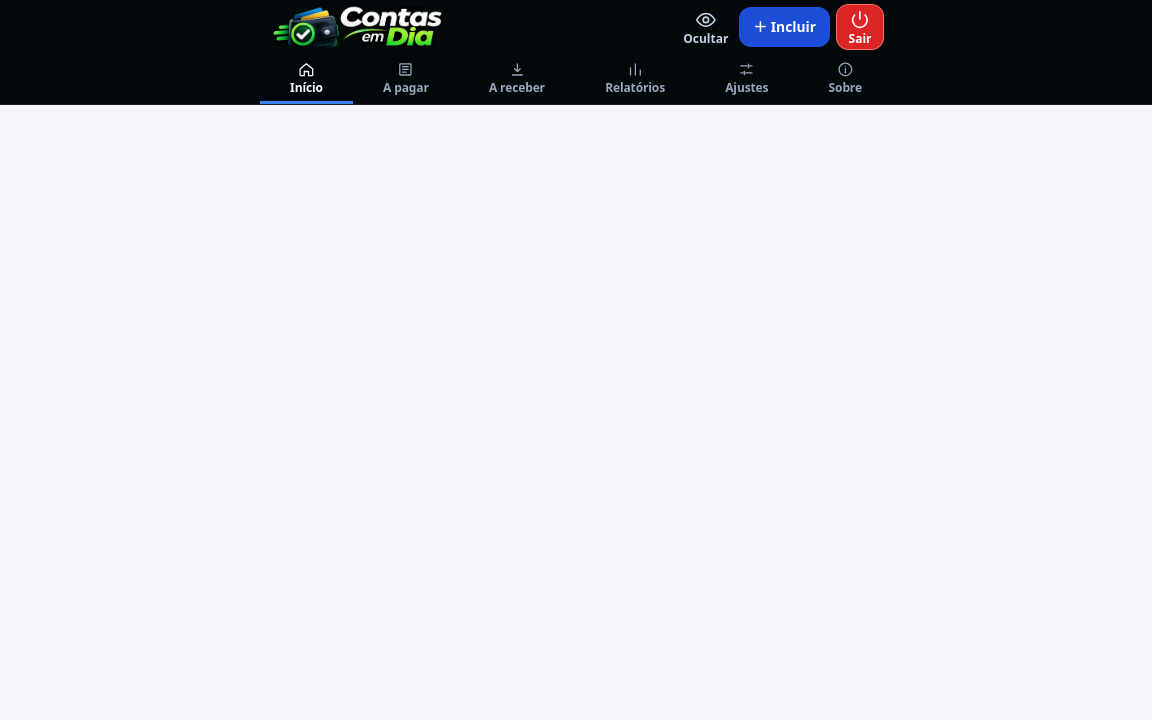
Test: Cabeçalho do app › escolher uma opção fecha a folha e a tecla Esc também
The width and height of the screenshot is (1152, 720).
Click the button "＋ Incluir" at (785, 27), box [739, 7, 830, 47]
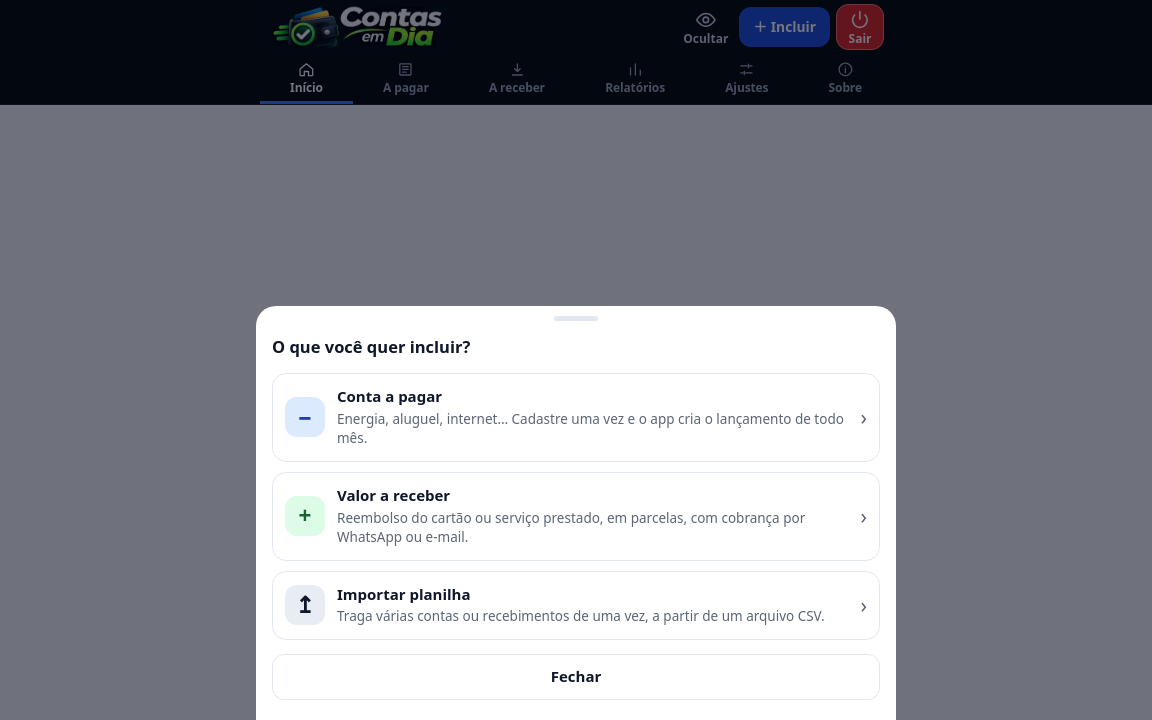
Press Escape
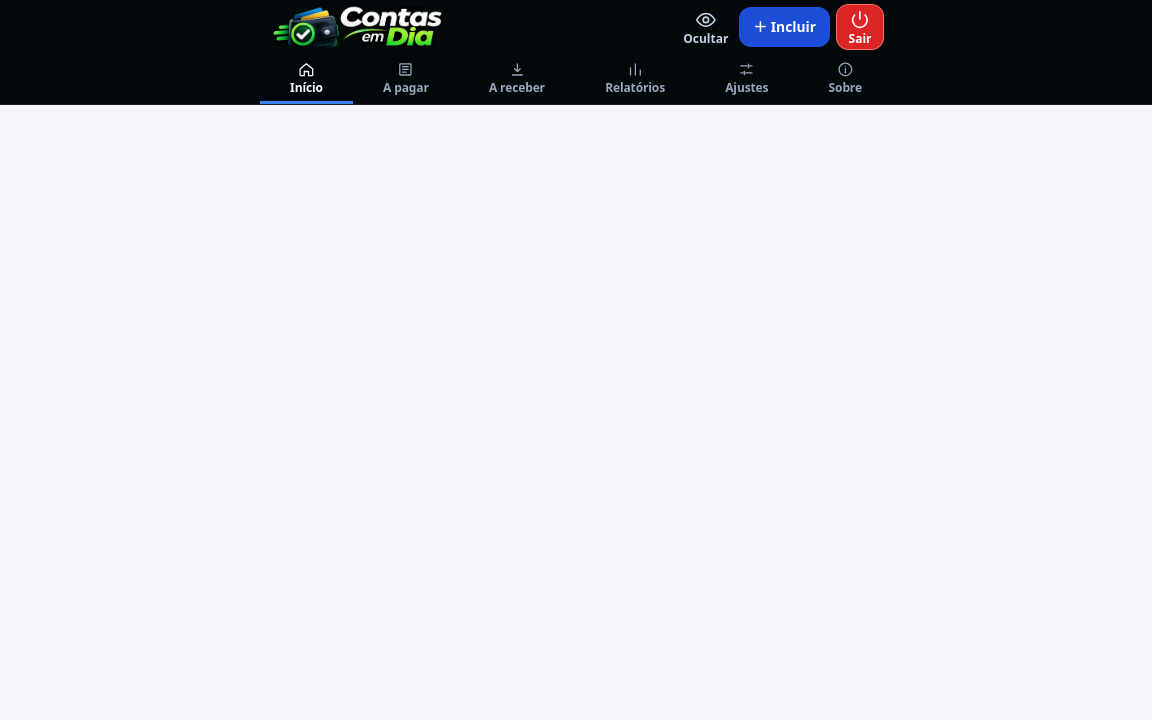
expect the dialog is gone: met
Click the button "＋ Incluir" at (785, 27), box [739, 7, 830, 47]
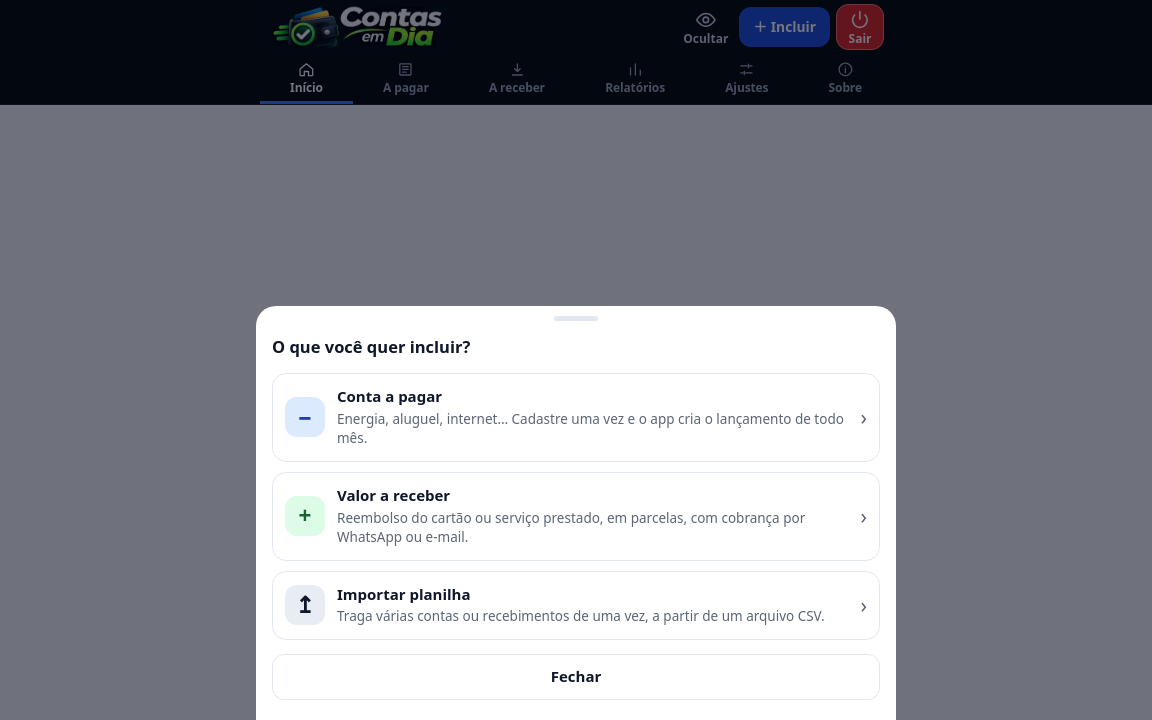
Click the link "Conta a pagar" at (576, 417), box [272, 373, 880, 462]
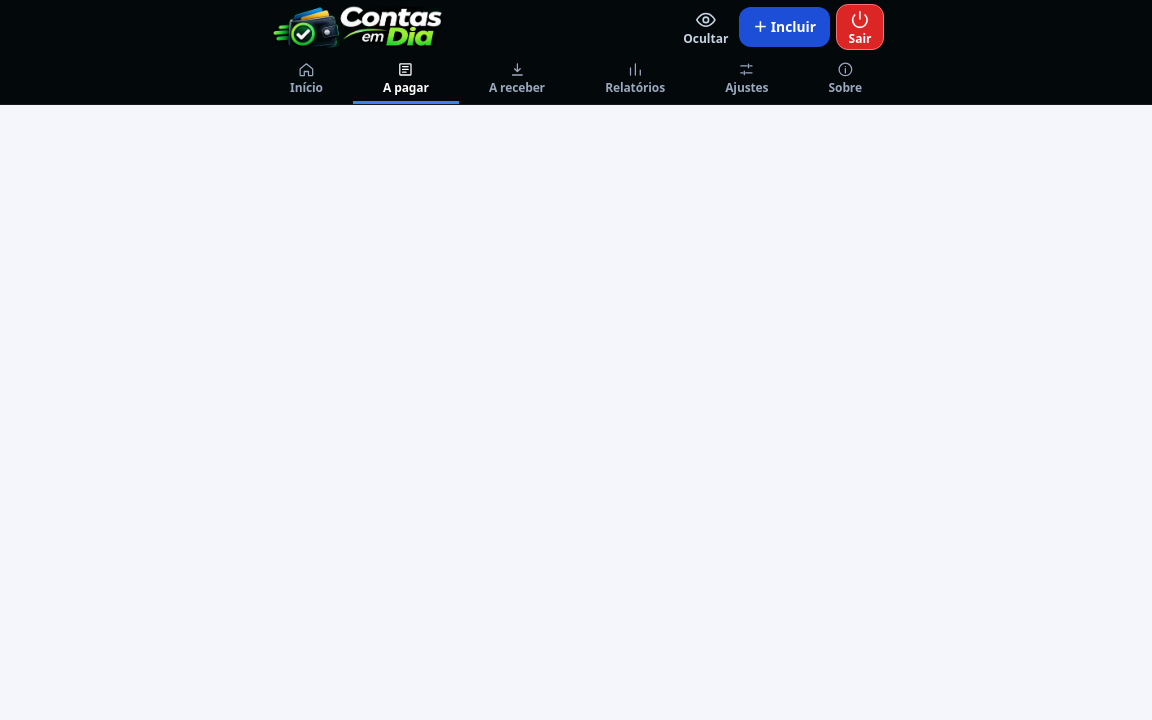
expect the dialog is gone: met
